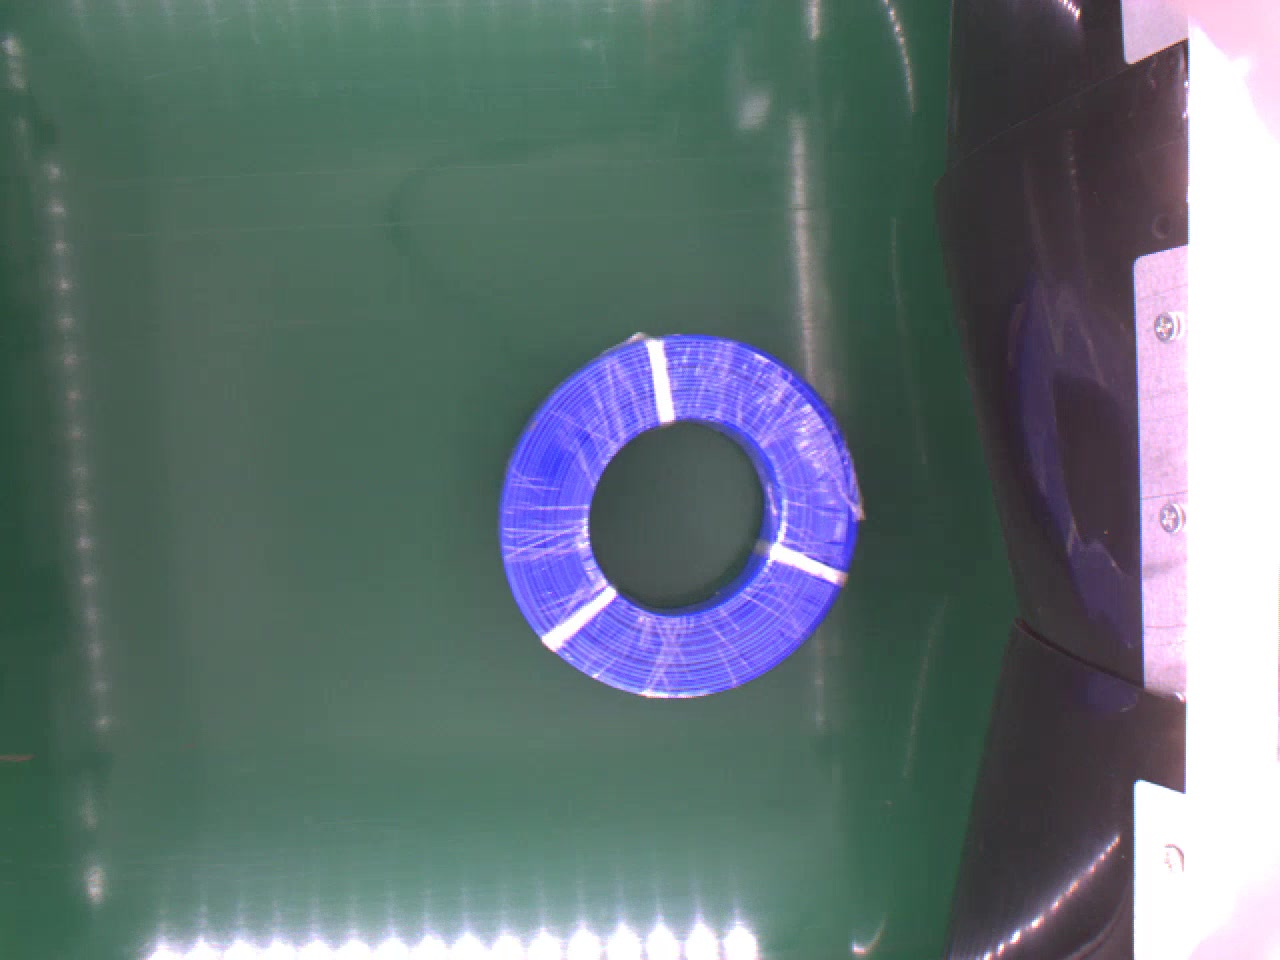blue: (492, 323, 884, 707)
